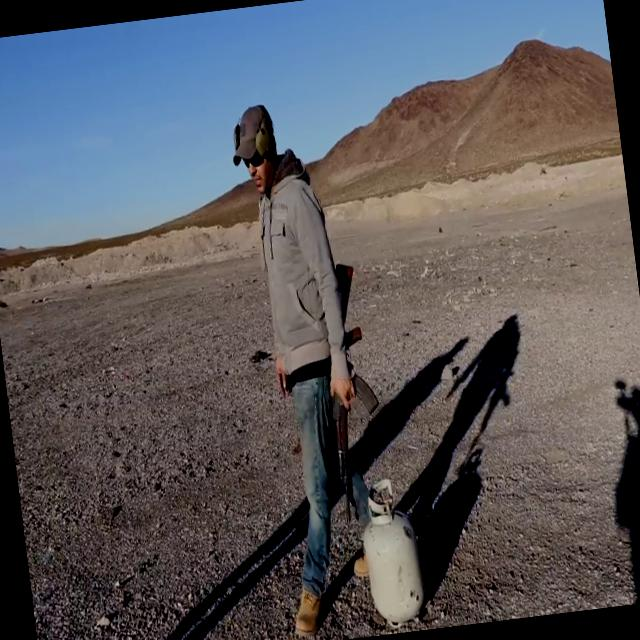long weapon: (303, 244, 400, 528)
